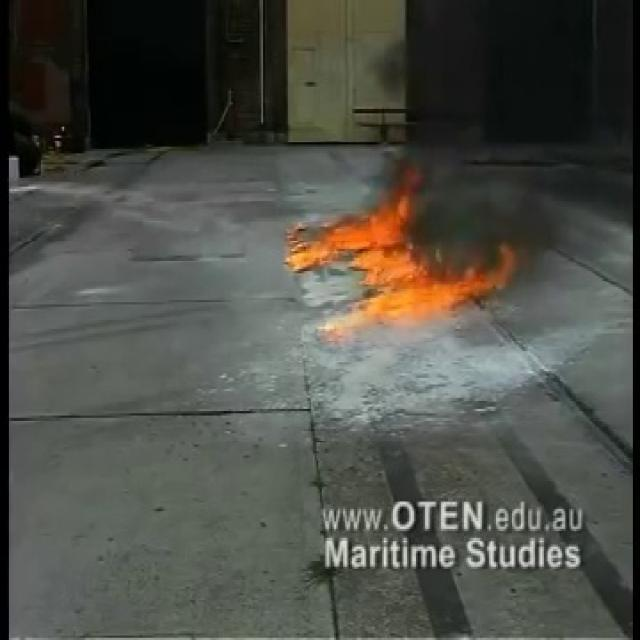Fire: (290, 174, 503, 343)
Smoke: (378, 0, 632, 269)
